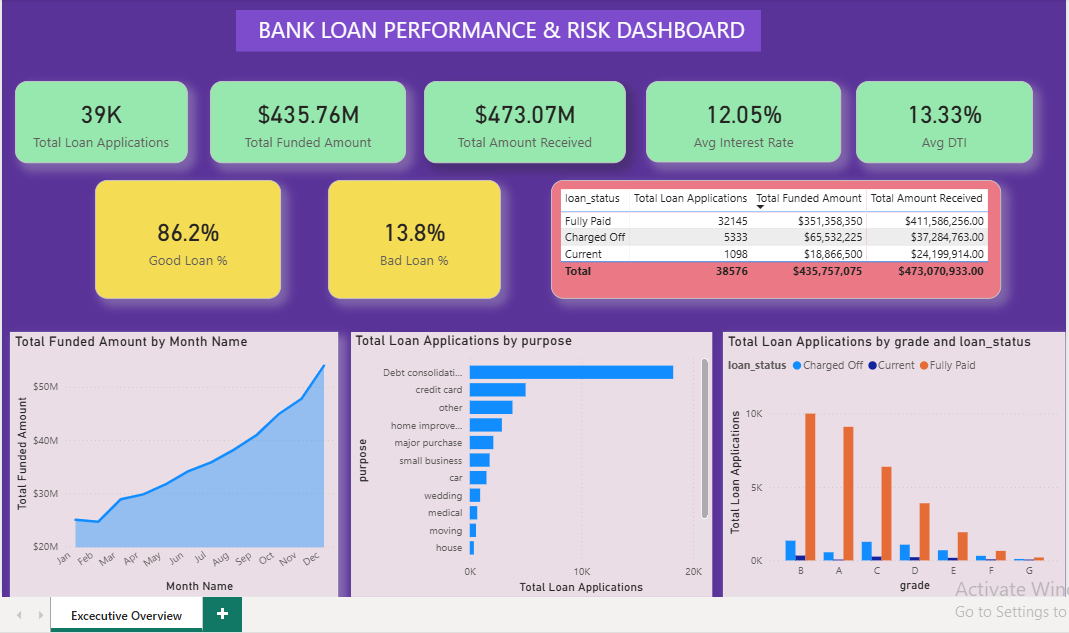

The page's visual inventory and layout, read from the dashboard file:
{"tool":"powerbi","page":{"name":"Excecutive Overview","canvas":[1280,720],"ordinal":0},"visuals":[{"type":"card","fields":{"Values":["_Measures.Total Loan Applications"]},"box":[15.8,98.5,207.6,98.5],"z":0},{"type":"card","fields":{"Values":["_Measures.Total Funded Amount"]},"box":[250.9,98.5,236.5,98.5],"z":1},{"type":"card","fields":{"Values":["_Measures.Total Amount Received"]},"box":[508.5,98.5,243.1,98.5],"z":2},{"type":"card","fields":{"Values":["_Measures.Avg DTI"]},"box":[1028.8,98.5,212.8,98.5],"z":3},{"type":"card","fields":{"Values":["_Measures.Avg Interest Rate"]},"box":[774.9,99.1,235.4,97.7],"z":4},{"type":"card","fields":{"Values":["_Measures.Bad Loan %"]},"box":[392.3,217.5,207.8,143.1],"z":5},{"type":"card","fields":{"Values":["_Measures.Good Loan %"]},"box":[111.5,217.5,224.3,143.1],"z":6},{"type":"tableEx","fields":{"Values":["financial_loan.loan_status","_Measures.Total Loan Applications","_Measures.Total Funded Amount","_Measures.Total Amount Received"]},"box":[660.6,217.5,542.3,143.1],"z":7},{"type":"clusteredBarChart","fields":{"Y":["_Measures.Total Loan Applications"],"Category":["financial_loan.purpose"]},"box":[419.8,400.5,434.9,319.3],"z":9},{"type":"clusteredColumnChart","fields":{"Y":["_Measures.Total Loan Applications"],"Series":["financial_loan.loan_status"],"Category":["financial_loan.grade"]},"box":[868.5,400.5,411.5,319.3],"z":10},{"type":"areaChart","fields":{"Y":["_Measures.Total Funded Amount"],"Category":["Dim_Date.Month Name"]},"box":[9.6,400.5,395,319.3],"z":11},{"type":"textbox","box":[281.2,13.1,632,49.9],"z":12}]}

Visuals, with their boxes in screenshot pixels (x1, y1, x2, y2):
card - _Measures.Total Loan Applications: detection(19, 81, 190, 162)
card - _Measures.Total Funded Amount: detection(212, 81, 407, 162)
card - _Measures.Total Amount Received: detection(424, 81, 625, 162)
card - _Measures.Avg DTI: detection(853, 81, 1028, 162)
card - _Measures.Avg Interest Rate: detection(644, 82, 838, 162)
card - _Measures.Bad Loan %: detection(329, 179, 500, 297)
card - _Measures.Good Loan %: detection(97, 179, 282, 297)
tableEx - financial_loan.loan_status x _Measures.Total Loan Applications: detection(550, 179, 996, 297)
clusteredBarChart - _Measures.Total Loan Applications x financial_loan.purpose: detection(351, 330, 710, 593)
clusteredColumnChart - _Measures.Total Loan Applications x financial_loan.loan_status: detection(721, 330, 1060, 593)
areaChart - _Measures.Total Funded Amount x Dim_Date.Month Name: detection(13, 330, 339, 593)
textbox: detection(237, 11, 758, 52)
